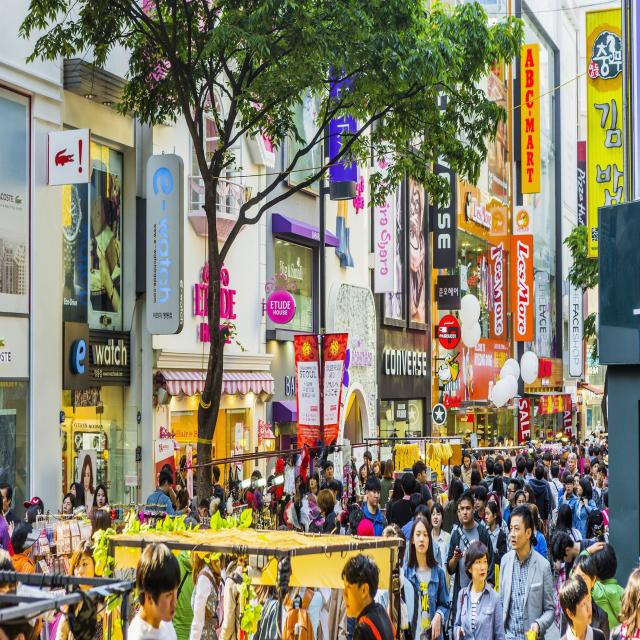body: (0, 446, 46, 640), (496, 503, 557, 639), (160, 451, 264, 530), (47, 538, 126, 640), (446, 490, 496, 624), (401, 514, 451, 640), (452, 539, 509, 640), (84, 172, 123, 315), (568, 540, 627, 634), (126, 542, 182, 640), (187, 522, 225, 640), (553, 502, 584, 632), (10, 521, 42, 640), (571, 553, 611, 640), (557, 573, 607, 640), (143, 468, 190, 530), (549, 530, 600, 584), (402, 503, 443, 569), (299, 70, 323, 182), (308, 582, 354, 640), (218, 551, 245, 640), (428, 501, 452, 600), (610, 561, 640, 640), (60, 453, 98, 514), (479, 490, 514, 554), (281, 586, 322, 640), (443, 497, 463, 603), (513, 428, 557, 476), (266, 456, 294, 528), (358, 474, 389, 537), (248, 584, 279, 640), (483, 501, 508, 568), (528, 462, 550, 538), (572, 477, 598, 540), (89, 509, 113, 577), (390, 472, 417, 530), (468, 432, 488, 507), (584, 430, 608, 485), (526, 503, 549, 560), (400, 492, 426, 542), (441, 479, 464, 535), (340, 503, 375, 538), (289, 473, 309, 533), (316, 488, 341, 535), (376, 581, 396, 639), (319, 460, 346, 502), (412, 460, 433, 514), (488, 434, 513, 477), (502, 477, 523, 526), (558, 473, 580, 519), (386, 476, 405, 526), (546, 461, 564, 512), (591, 463, 609, 513), (586, 508, 610, 544), (306, 493, 326, 534), (379, 459, 395, 509), (491, 473, 508, 519), (389, 431, 409, 469), (556, 433, 584, 460), (447, 464, 467, 497), (90, 483, 110, 515), (574, 457, 594, 489), (74, 386, 102, 408), (515, 477, 536, 506), (459, 450, 474, 490), (327, 480, 343, 517), (346, 466, 361, 504), (174, 485, 192, 516), (558, 468, 573, 504), (352, 455, 363, 500), (305, 470, 322, 498), (358, 450, 373, 479), (600, 488, 609, 534), (359, 462, 371, 496), (219, 547, 228, 592), (515, 455, 529, 483), (442, 460, 454, 490), (568, 451, 580, 477), (411, 479, 430, 495), (590, 458, 600, 488), (576, 445, 585, 476), (556, 459, 572, 472), (302, 473, 310, 495), (372, 460, 381, 479)
